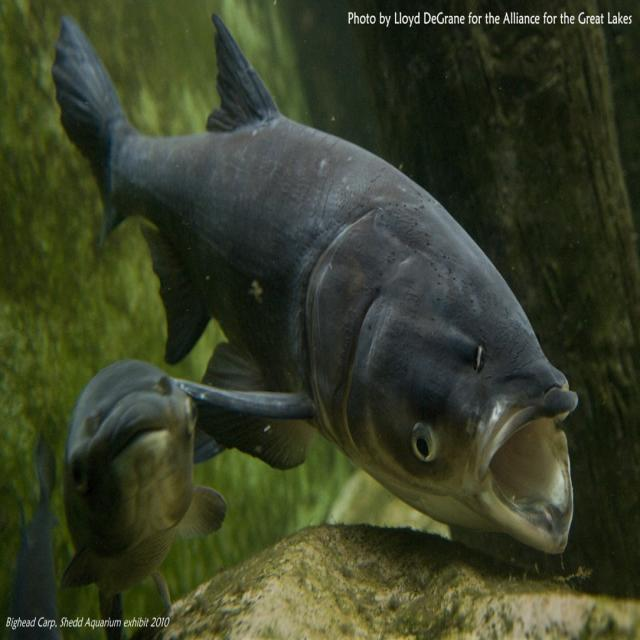Big-Head-Carp: (22, 4, 624, 604)
